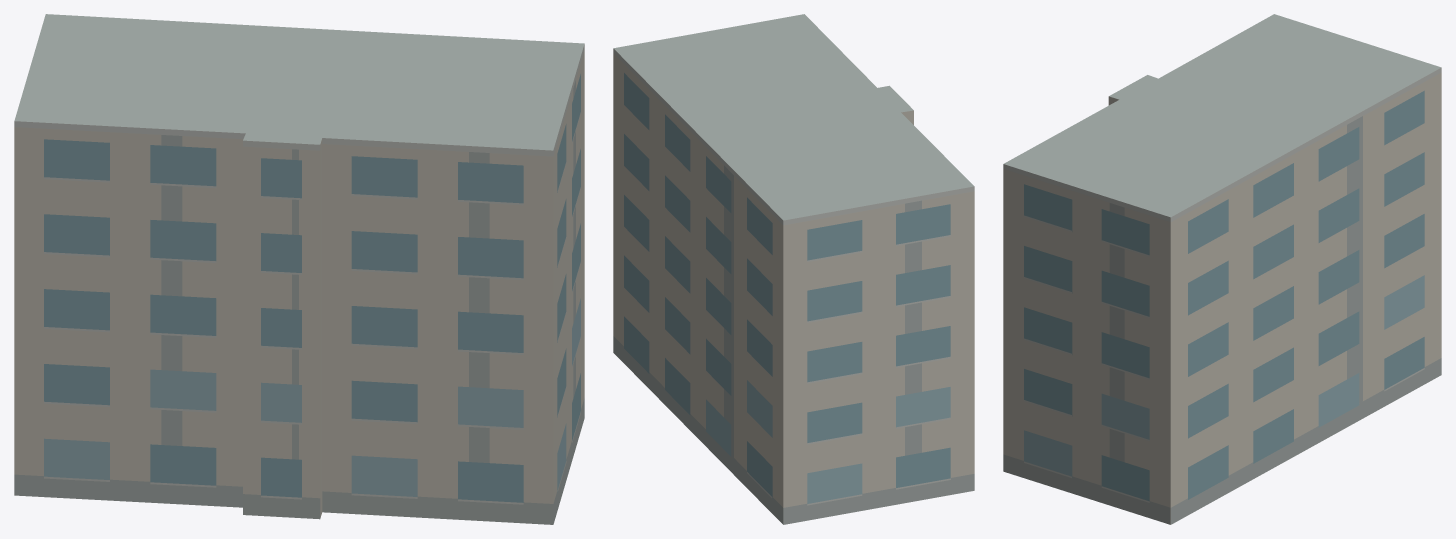
Rendered from survey-upis-32631613.glb.
The picture shows the model from 3 angles, left to right: view 1: azimuth 30°, elevation 25°; view 2: azimuth 150°, elevation 25°; view 3: azimuth 270°, elevation 25°; orthographic projection. The views are drawn at different scales.
Parts seen in each view (by area): view 1: survey-upis-32631613.tmp; view 2: survey-upis-32631613.tmp; view 3: survey-upis-32631613.tmp.
Boxes of the visible parts, x1=… form: survey-upis-32631613.tmp: x1=14, y1=14, x2=584, y2=524; survey-upis-32631613.tmp: x1=613, y1=14, x2=974, y2=524; survey-upis-32631613.tmp: x1=1003, y1=14, x2=1441, y2=524.
Bounding box in the file's own units: 21.78 × 15.35 × 19.84.
